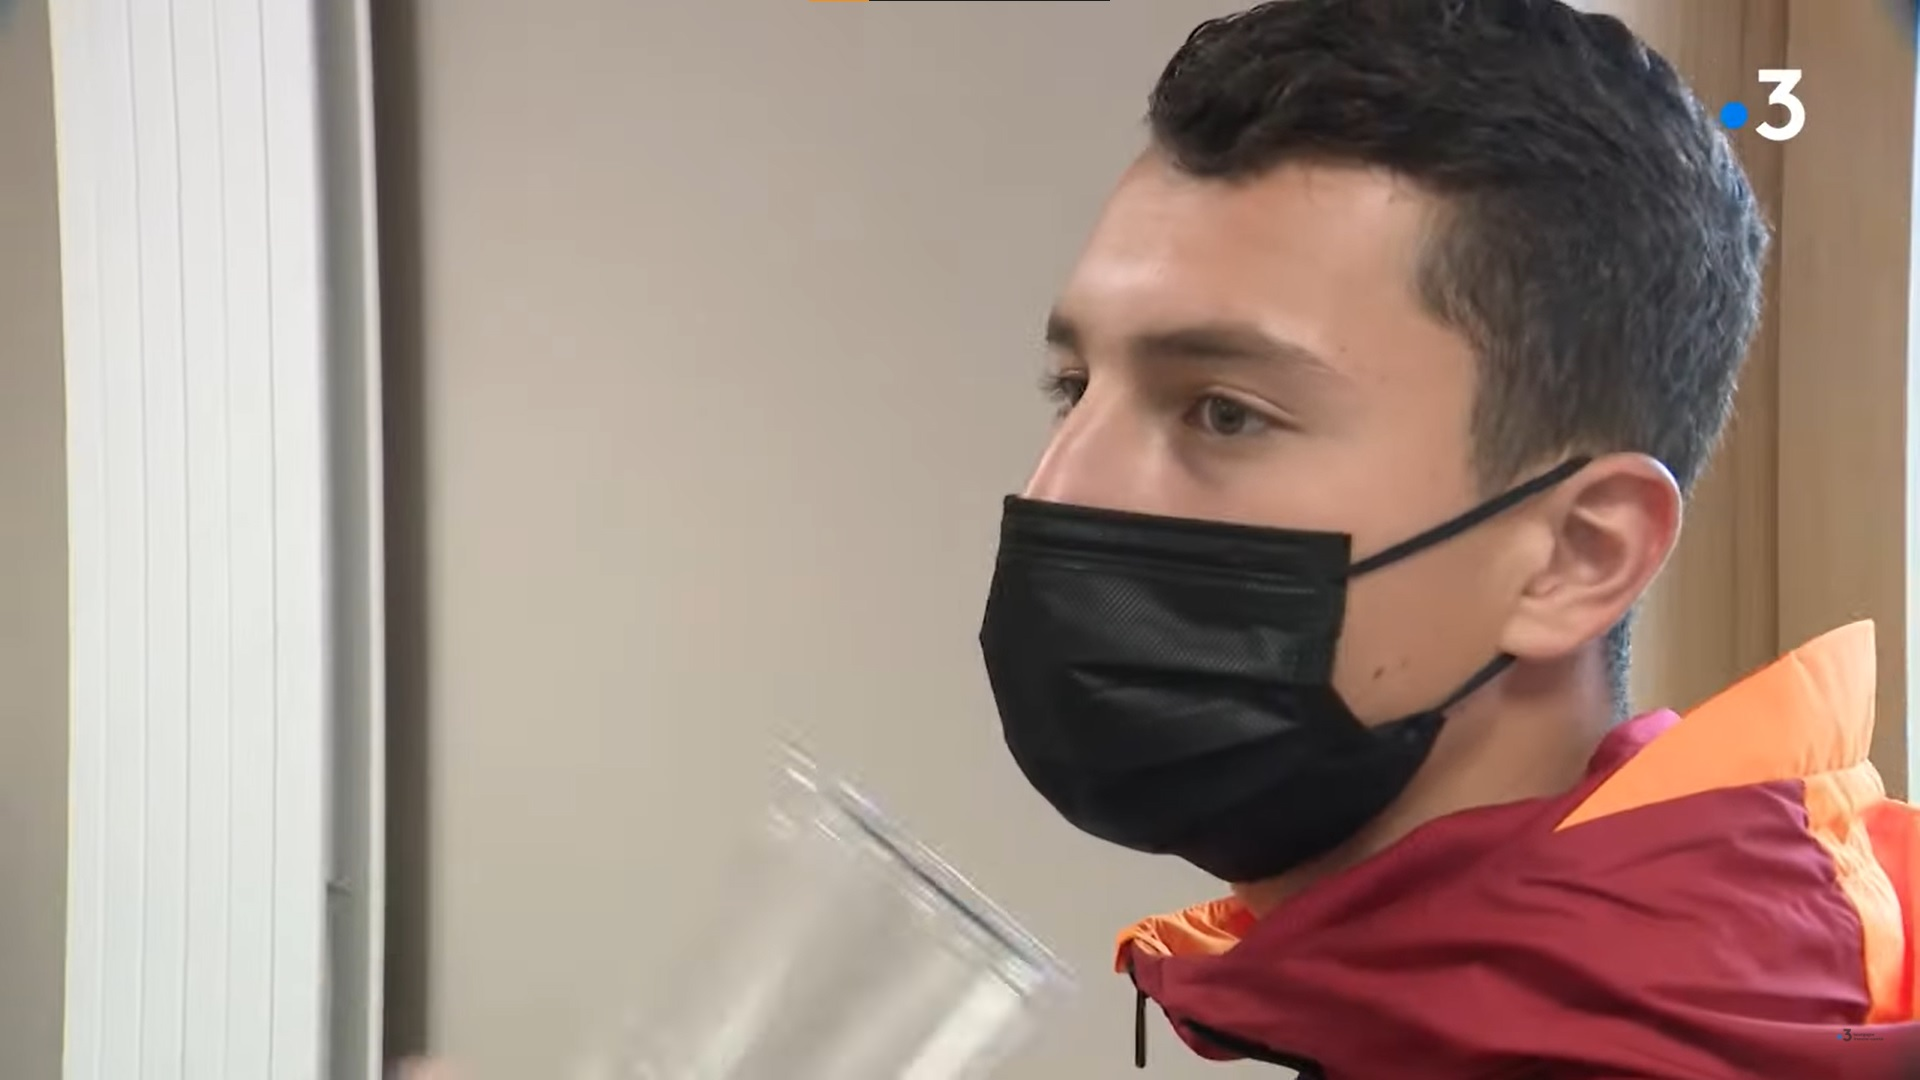with_mask: (971, 257, 1496, 876)
